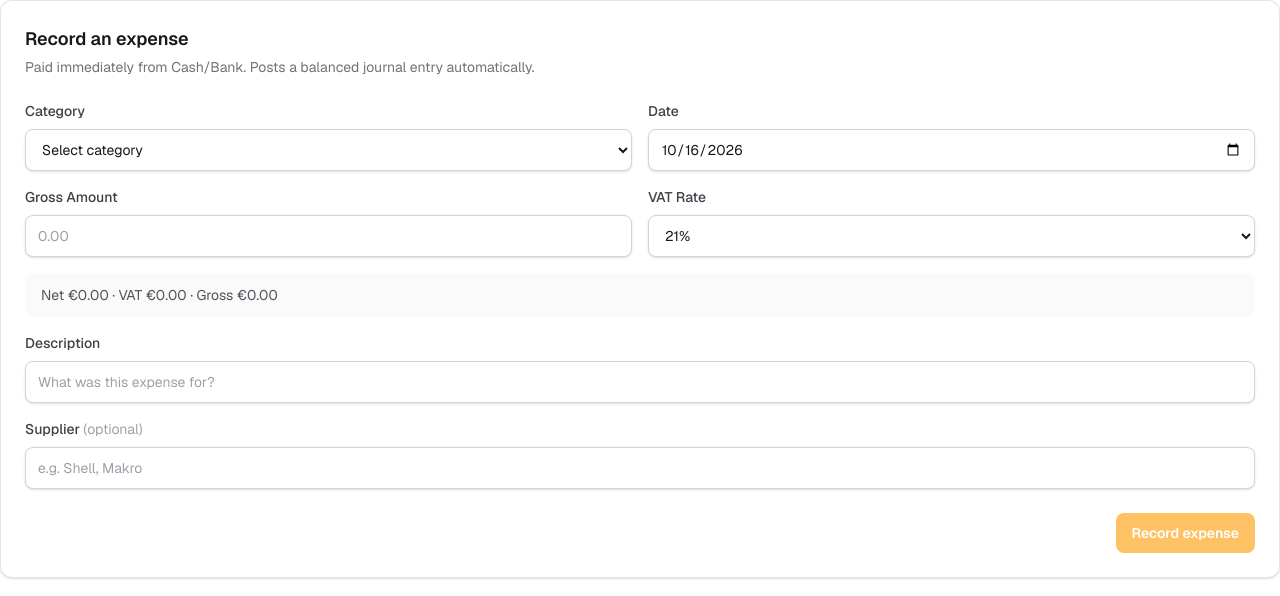
ExpenseForm › shows a live Net/VAT/Gross breakdown for the default 21% rate
Type "121" into the field labelled "Gross Amount" at (328, 236), box [25, 215, 632, 257]
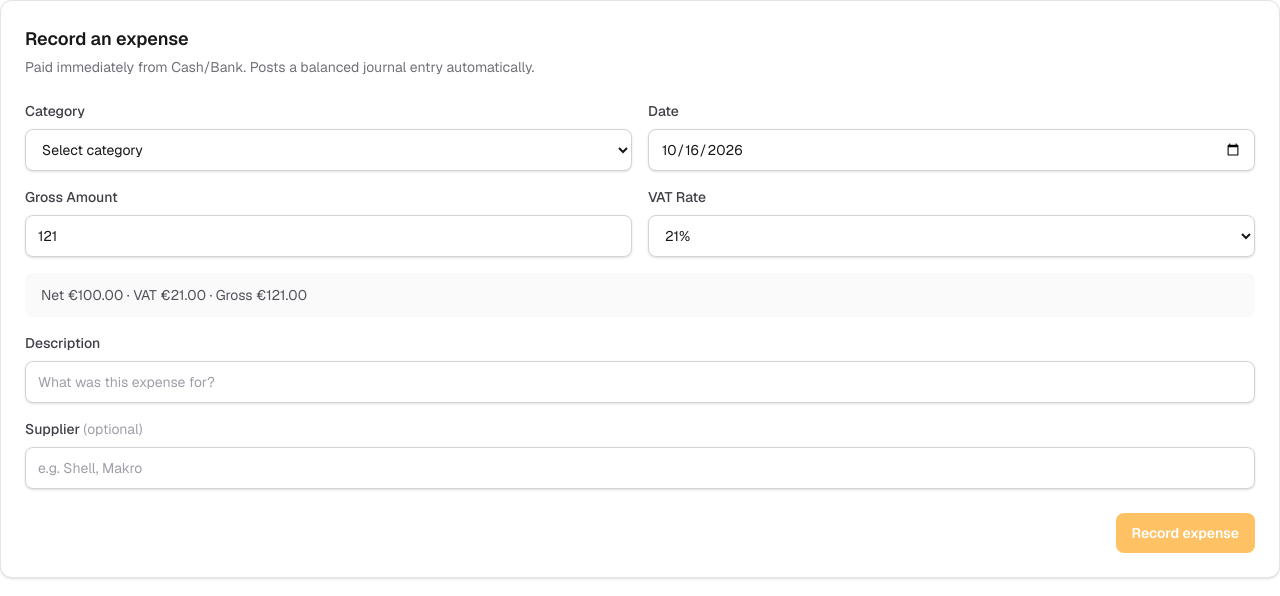
Now the text "Net €100.00 · VAT €21.00 · Gross €121.00" is shown, box [25, 273, 1255, 317]
